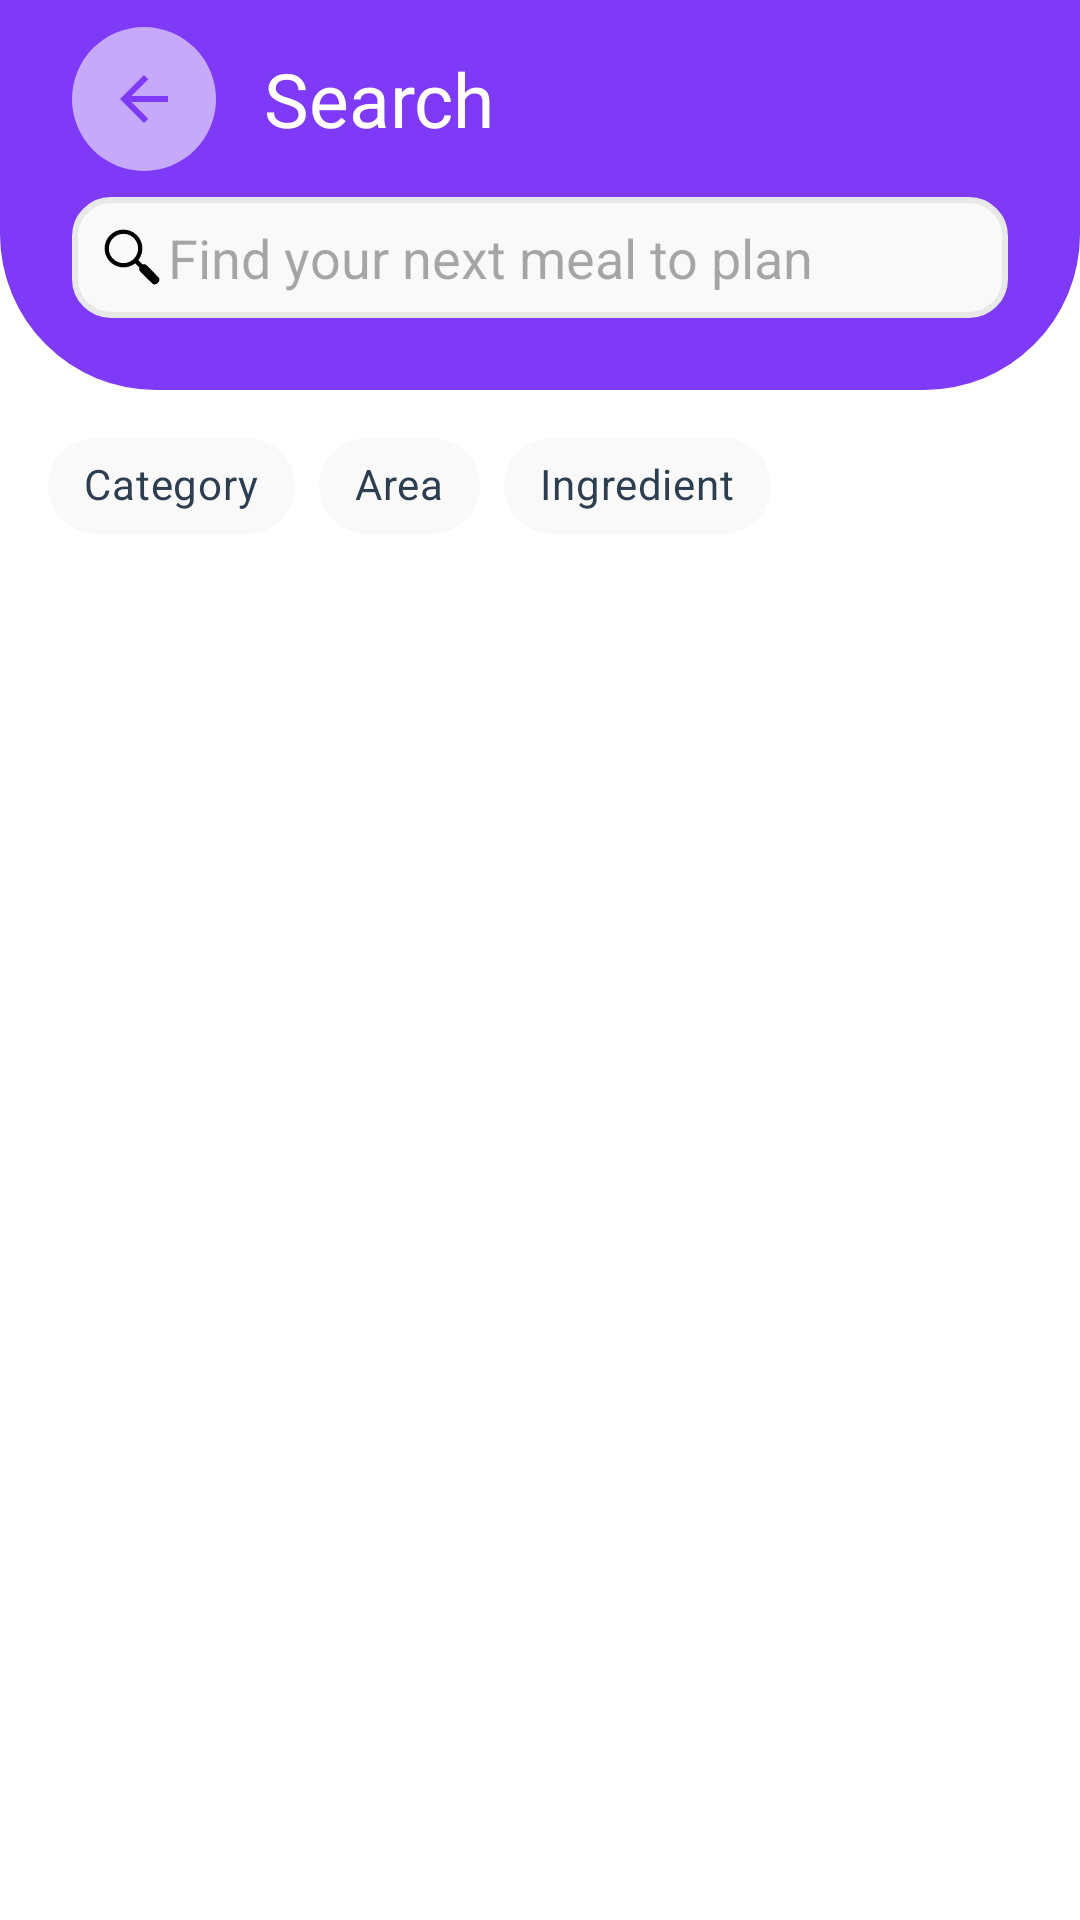

Icons on this 1080px×1920px Android screen, each with its box as BBox(x1, y1, x2, y2):
arrow back: BBox(72, 27, 216, 171)
